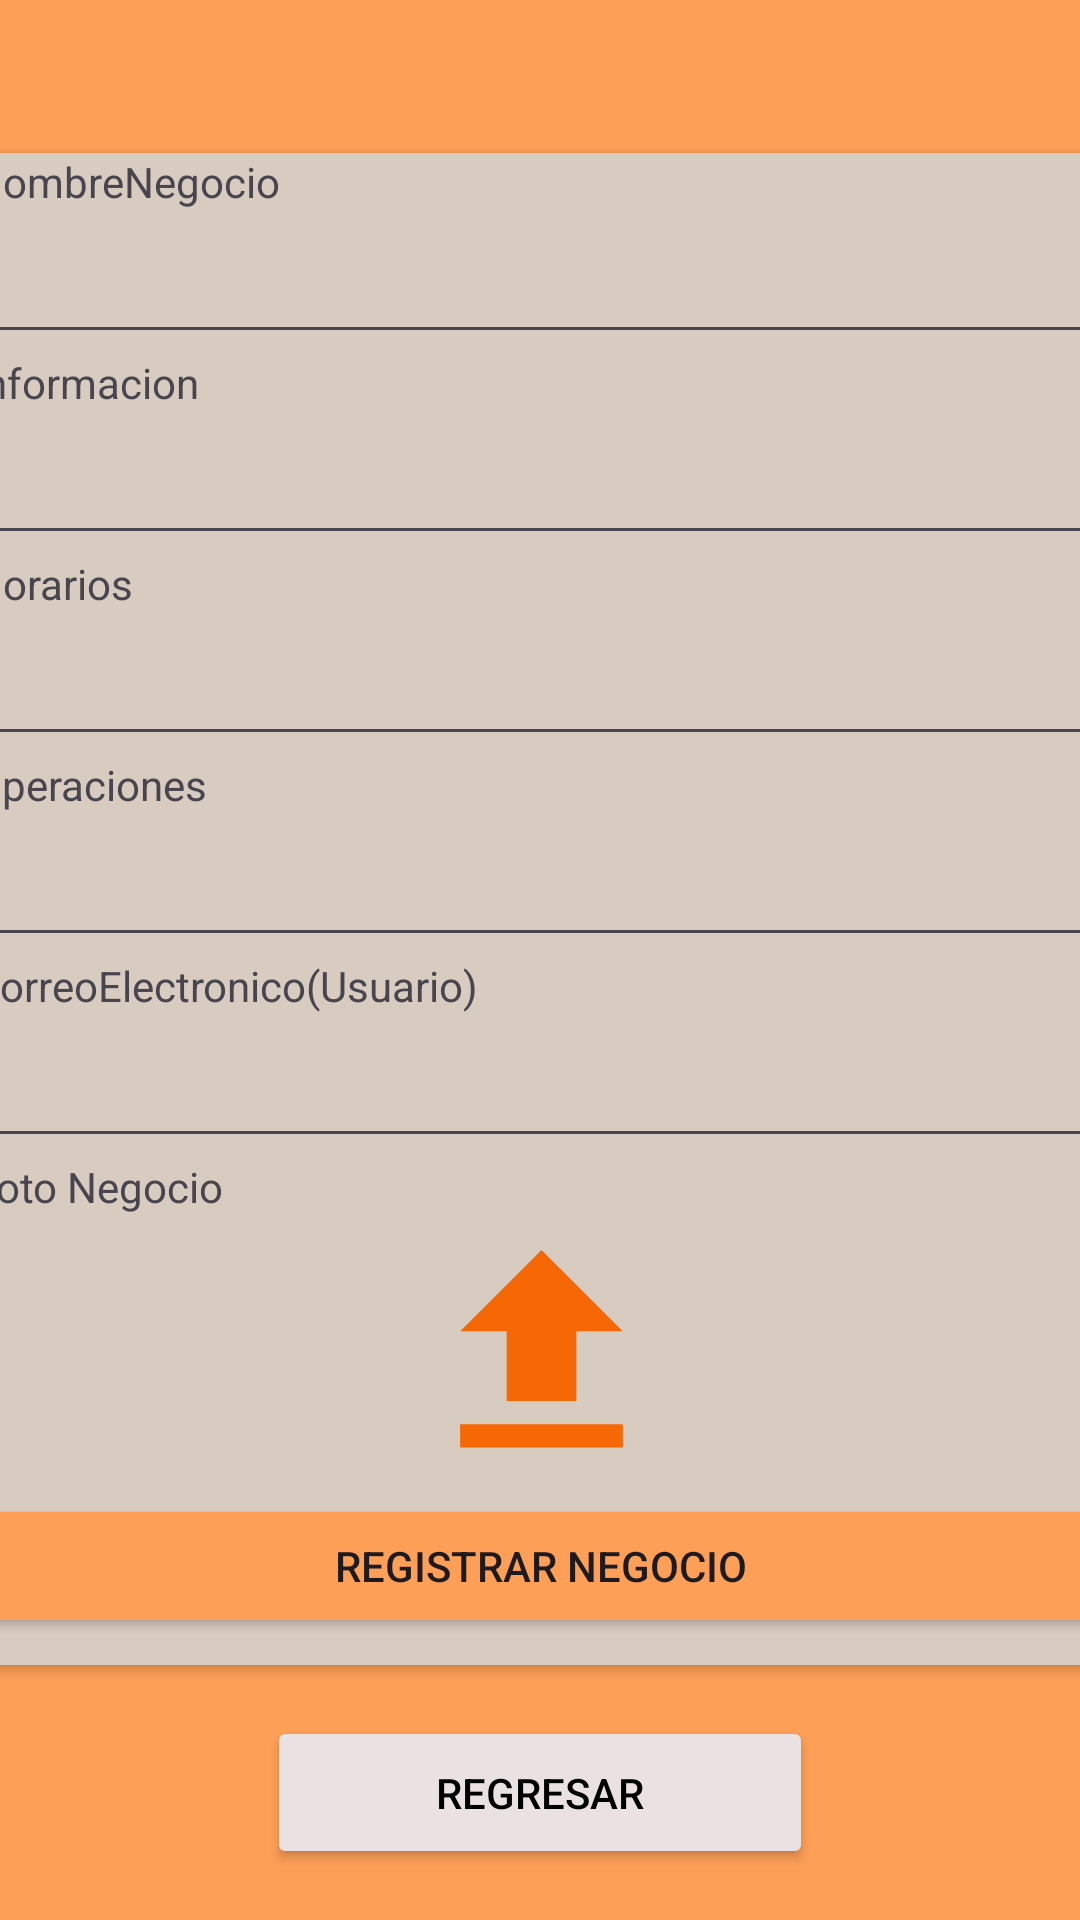

Icons on this 1080 × 1920 Android screen, each with the point to tap as (x=x, y=y):
upload: (x=541, y=1349)
